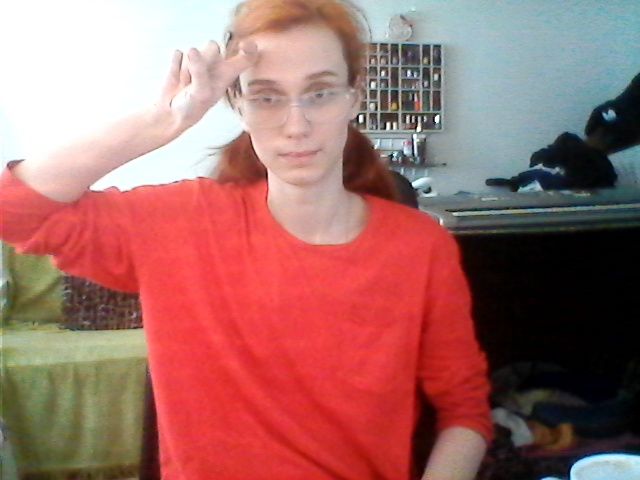chlapec: (159, 35, 283, 134)
